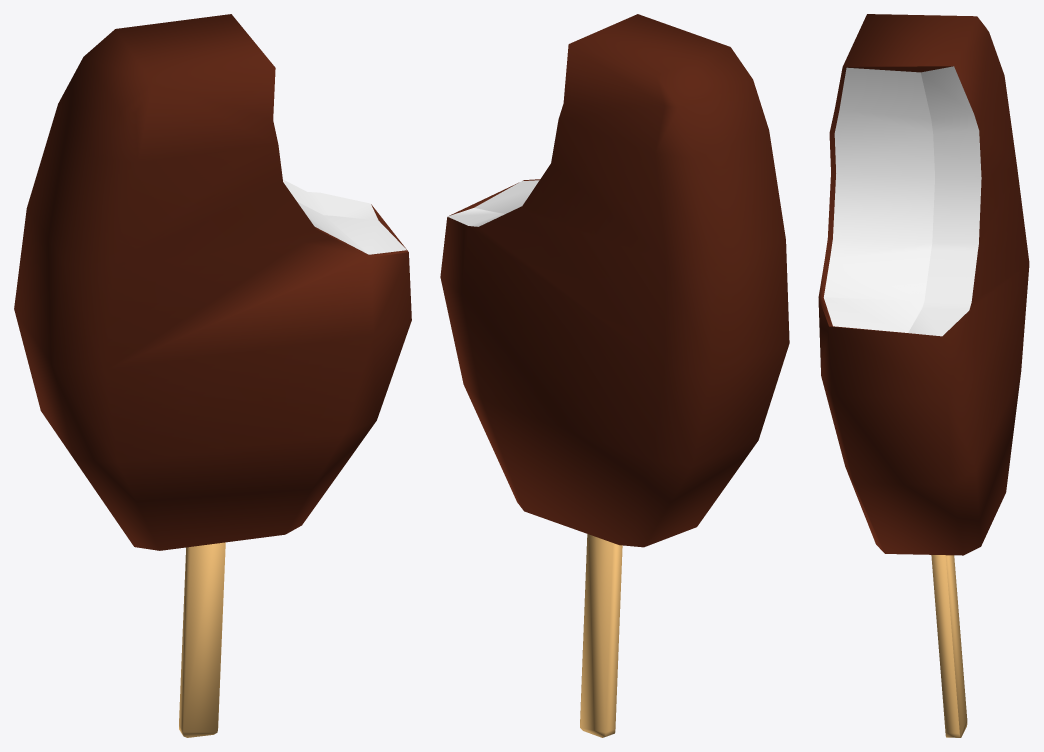
Rendered from brown_icecream.glb.
The picture shows the model from 3 angles, left to right: view 1: azimuth 30°, elevation 25°; view 2: azimuth 150°, elevation 25°; view 3: azimuth 270°, elevation 25°; orthographic projection. The views are drawn at different scales.
Parts seen in each view (by area): view 1: brown_icecream; view 2: brown_icecream; view 3: brown_icecream.
Boxes of the visible parts, x1,y1,x2,y2 form: brown_icecream: [14, 14, 411, 737]; brown_icecream: [440, 14, 789, 737]; brown_icecream: [818, 14, 1029, 737].
Bounding box in the file's own units: 0.4223 × 0.8421 × 0.2358.
Materials: 1 (1 with a texture image).
